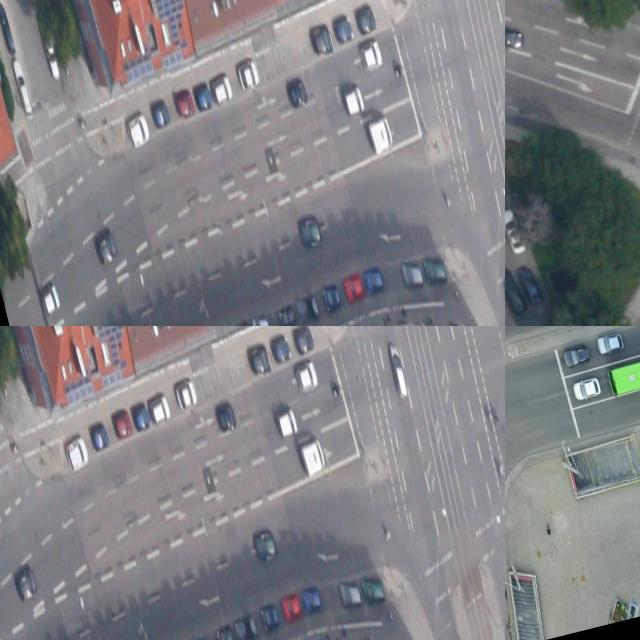UAI: (38, 15, 61, 80), (387, 342, 410, 399), (505, 262, 528, 317), (12, 59, 33, 118), (517, 265, 545, 308), (92, 225, 120, 266), (124, 112, 153, 150), (12, 564, 40, 603), (63, 435, 92, 472), (505, 206, 526, 256), (297, 214, 324, 249), (38, 281, 63, 318), (251, 528, 278, 561), (353, 1, 379, 35), (246, 342, 272, 376), (0, 0, 16, 55), (505, 16, 527, 56), (562, 342, 593, 370), (308, 23, 334, 56), (422, 254, 448, 287), (360, 575, 386, 608), (596, 330, 626, 358), (274, 405, 299, 438), (148, 95, 172, 129), (359, 41, 385, 72), (295, 293, 321, 324), (294, 362, 320, 393), (571, 375, 602, 401), (130, 398, 153, 432), (236, 59, 261, 90), (174, 379, 199, 410), (338, 579, 363, 610), (362, 264, 386, 296), (342, 272, 366, 304), (87, 419, 111, 451), (110, 407, 134, 439), (233, 611, 259, 640), (285, 76, 309, 107), (342, 85, 366, 116), (400, 258, 424, 289), (214, 401, 238, 432), (191, 80, 214, 112), (270, 333, 293, 365), (289, 326, 315, 354), (210, 75, 235, 104), (148, 394, 173, 423), (332, 12, 355, 42), (320, 283, 343, 313), (258, 602, 281, 632), (172, 88, 195, 117), (300, 585, 323, 614), (281, 592, 303, 621), (276, 304, 298, 326), (213, 622, 237, 640), (249, 314, 272, 326), (188, 633, 212, 640), (236, 319, 253, 326)
car: (604, 338, 640, 399)
harvester: (366, 112, 396, 154), (297, 434, 327, 476)
